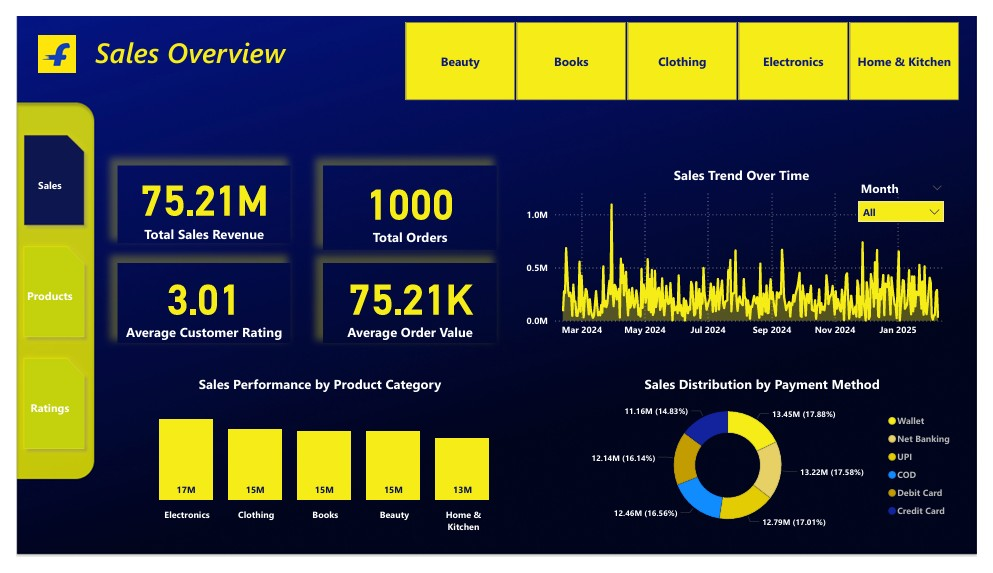

This screenshot's page, from the dashboard's own definition file:
{"tool":"powerbi","page":{"name":"Sales","canvas":[1280,720],"ordinal":0},"visuals":[{"type":"textbox","box":[99.1,16.8,300.7,84],"z":0},{"type":"image","box":[23.5,0,60.5,99.1],"z":1000},{"type":"lineChart","title":" Sales Trend Over Time","fields":{"Y":["Sum(public flipkart_sales.total_sales_inr)"],"Category":["public flipkart_sales.order_date.Variation.Date Hierarchy.Year","public flipkart_sales.order_date.Variation.Date Hierarchy.Quarter","public flipkart_sales.order_date.Variation.Date Hierarchy.Month","public flipkart_sales.order_date.Variation.Date Hierarchy.Day"]},"box":[673.6,198.2,584.6,236.9],"z":2000},{"type":"columnChart","title":"Sales Performance by Product Category","fields":{"Category":["public flipkart_sales.category"],"Y":["Sum(public flipkart_sales.total_sales_inr)"]},"box":[134.4,477.1,539.2,218.4],"z":3000},{"type":"donutChart","title":"Sales Distribution by Payment Method","fields":{"Category":["public flipkart_sales.payment_method"],"Y":["Sum(public flipkart_sales.total_sales_inr)"]},"box":[729,477.1,529.1,218.4],"z":4000},{"type":"slicer","fields":{"Values":["public flipkart_sales.category"]},"box":[492.2,0,787.8,117.6],"z":5000},{"type":"slicer","fields":{"Values":["public flipkart_sales.order_date.Variation.Date Hierarchy.Month"]},"box":[1112,213.3,134.4,75.6],"z":6000},{"type":"card","fields":{"Values":["public flipkart_sales.Total Revenue"]},"box":[134.4,198.2,230.1,104.1],"z":7000},{"type":"card","fields":{"Values":["public flipkart_sales.Total Orders"]},"box":[408.2,198.2,231.8,112.5],"z":8000},{"type":"card","fields":{"Values":["public flipkart_sales.Average Rating"]},"box":[134.4,327.6,230.1,107.5],"z":9000},{"type":"card","fields":{"Values":["public flipkart_sales.Average Order Value"]},"box":[408.2,327.6,231.8,107.5],"z":10000},{"type":"pageNavigator","box":[0,147.8,99.1,438.4],"z":11000}]}

Visuals, with their boxes in screenshot pixels (x1, y1, x2, y2), scaled from the page's 1280x720 canvas onto the 993x573 screenshot:
textbox: 77:13:310:80
image: 18:0:65:79
" Sales Trend Over Time" lineChart: 523:158:976:346
"Sales Performance by Product Category" columnChart: 104:380:523:554
"Sales Distribution by Payment Method" donutChart: 566:380:976:554
slicer - public flipkart_sales.category: 382:0:992:94
slicer - public flipkart_sales.order_date.Variation.Date Hierarchy.Month: 863:170:967:230
card - public flipkart_sales.Total Revenue: 104:158:283:241
card - public flipkart_sales.Total Orders: 317:158:496:247
card - public flipkart_sales.Average Rating: 104:261:283:346
card - public flipkart_sales.Average Order Value: 317:261:496:346
pageNavigator: 0:118:77:467
